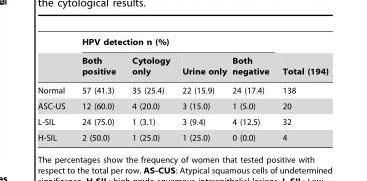table: (37, 37, 327, 141)
table column: (175, 37, 228, 141), (123, 37, 175, 141), (275, 37, 327, 141), (72, 37, 123, 141), (228, 37, 275, 141), (37, 37, 72, 141)
table column header: (37, 37, 327, 80)
table row: (37, 51, 327, 80), (37, 80, 327, 98), (37, 113, 327, 129), (37, 98, 327, 113), (37, 37, 327, 51), (37, 129, 327, 141)
table spanning cell: (72, 37, 275, 51), (275, 37, 327, 80)
